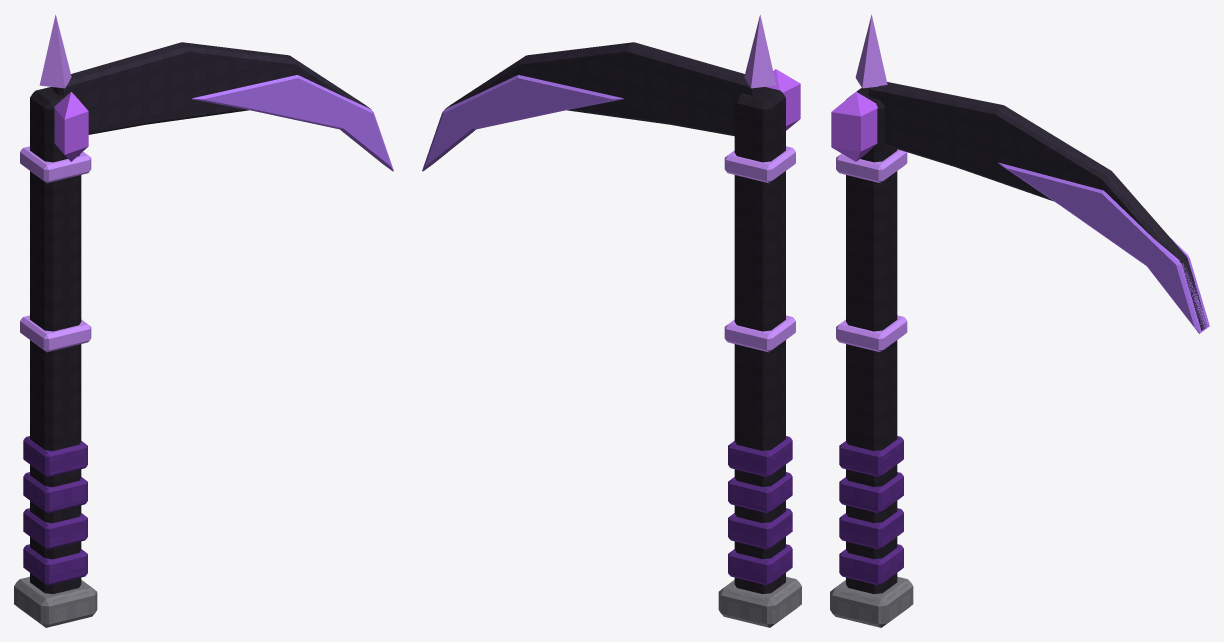
Rendered from outil_25_faux_de_lombre.glb.
3 views of the same model, side by side, from view 1: azimuth 30°, elevation 25°; view 2: azimuth 150°, elevation 25°; view 3: azimuth 330°, elevation 25° (orthographic).
Parts seen in each view (by area): view 1: outil_25_faux_de_lombre; view 2: outil_25_faux_de_lombre; view 3: outil_25_faux_de_lombre.
Boxes of the visible parts, x1,y1,x2,y2 form: outil_25_faux_de_lombre: [14, 15, 393, 627]; outil_25_faux_de_lombre: [422, 15, 801, 627]; outil_25_faux_de_lombre: [830, 14, 1209, 627].
Bounding box in the file's own units: 3.36 × 5.31 × 0.6605.
1 material, 1 textured.
